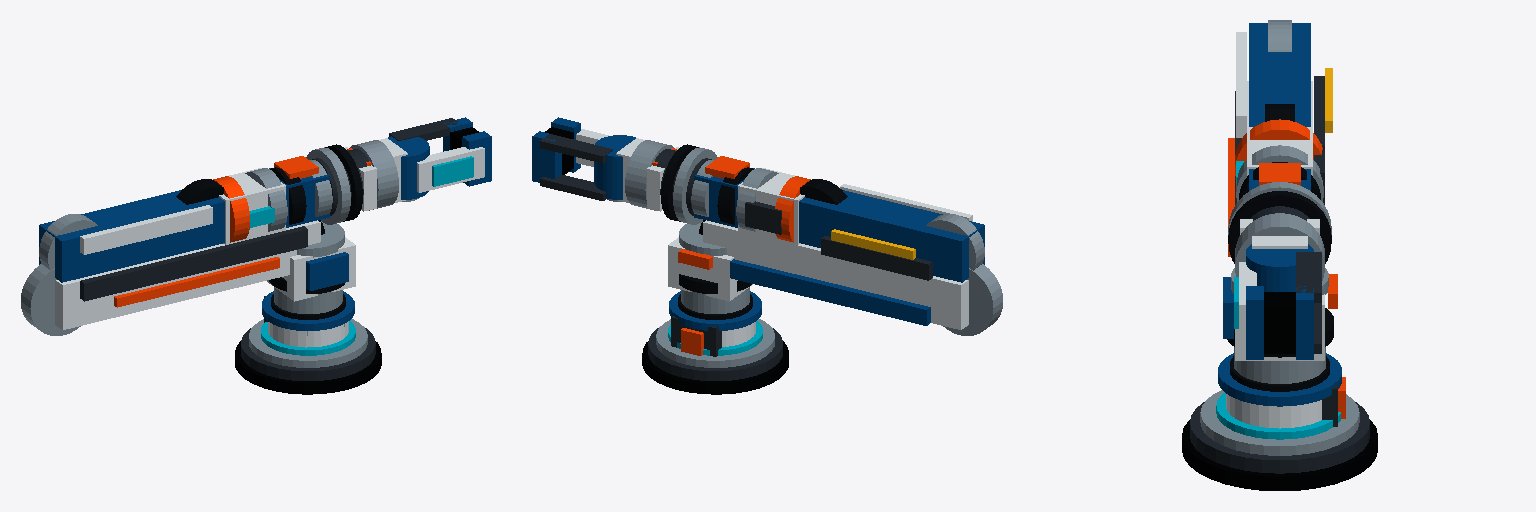
URDF robot description (marm_z1_style):
<?xml version="1.0" ?>
<!-- =================================================================================== -->
<!-- |    This document was autogenerated by xacro from src/marm_description/urdf/marm_z1_style.xacro | -->
<!-- |    EDITING THIS FILE BY HAND IS NOT RECOMMENDED                                 | -->
<!-- =================================================================================== -->
<robot name="marm_z1_style">
  <!-- Z1-inspired visual language, using the current project's palette and primitives. -->
  <material name="Graphite">
    <color rgba="0.055 0.070 0.085 1"/>
  </material>
  <material name="Gunmetal">
    <color rgba="0.16 0.19 0.22 1"/>
  </material>
  <material name="PearlWhite">
    <color rgba="0.88 0.91 0.93 1"/>
  </material>
  <material name="Aluminium">
    <color rgba="0.52 0.58 0.62 1"/>
  </material>
  <material name="OceanBlue">
    <color rgba="0.02 0.30 0.52 1"/>
  </material>
  <material name="ElectricCyan">
    <color rgba="0.00 0.72 0.82 1"/>
  </material>
  <material name="SafetyOrange">
    <color rgba="1.00 0.30 0.035 1"/>
  </material>
  <material name="SignalYellow">
    <color rgba="1.00 0.73 0.06 1"/>
  </material>
  <material name="RubberBlack">
    <color rgba="0.018 0.022 0.026 1"/>
  </material>
  <!-- Base and shoulder motor module -->
  <link name="marm_z1_base_link">
    <visual>
      <origin rpy="0 0 0" xyz="0 0 -0.006"/>
      <geometry>
        <cylinder length="0.012" radius="0.074"/>
      </geometry>
      <material name="RubberBlack"/>
    </visual>
    <visual>
      <origin rpy="0 0 0" xyz="0 0 0.004"/>
      <geometry>
        <cylinder length="0.014" radius="0.068"/>
      </geometry>
      <material name="Gunmetal"/>
    </visual>
    <visual>
      <origin rpy="0 0 0" xyz="0 0 0.015"/>
      <geometry>
        <cylinder length="0.008" radius="0.06"/>
      </geometry>
      <material name="Aluminium"/>
    </visual>
    <visual>
      <origin rpy="0 0 0" xyz="0 0 0.022"/>
      <geometry>
        <cylinder length="0.006" radius="0.048"/>
      </geometry>
      <material name="ElectricCyan"/>
    </visual>
  </link>
  <joint name="marm_z1_base_joint" type="fixed">
    <origin rpy="0 0 0" xyz="0 0 0.025"/>
    <parent link="marm_z1_base_link"/>
    <child link="marm_z1_link00"/>
  </joint>
  <link name="marm_z1_link00">
    <visual>
      <origin rpy="0 0 0" xyz="0 0 0"/>
      <geometry>
        <cylinder length="0.046" radius="0.041"/>
      </geometry>
      <material name="PearlWhite"/>
    </visual>
    <visual>
      <origin rpy="0 0 0" xyz="0 0 -0.025"/>
      <geometry>
        <cylinder length="0.008" radius="0.047"/>
      </geometry>
      <material name="Graphite"/>
    </visual>
    <visual>
      <origin rpy="0 0 0" xyz="0 0 0.025"/>
      <geometry>
        <cylinder length="0.008" radius="0.047"/>
      </geometry>
      <material name="OceanBlue"/>
    </visual>
    <visual>
      <origin rpy="0 0 0" xyz="0 0.030 0"/>
      <geometry>
        <box size="0.052 0.028 0.052"/>
      </geometry>
      <material name="Gunmetal"/>
    </visual>
    <visual>
      <origin rpy="0 0 0" xyz="0 0.046 0"/>
      <geometry>
        <box size="0.024 0.008 0.036"/>
      </geometry>
      <material name="SafetyOrange"/>
    </visual>
    <visual>
      <origin rpy="0 0 0" xyz="0 -0.031 0.018"/>
      <geometry>
        <box size="0.044 0.008 0.010"/>
      </geometry>
      <material name="Aluminium"/>
    </visual>
    <collision>
      <origin rpy="0 0 0" xyz="0 0 0"/>
      <geometry>
        <cylinder length="0.050" radius="0.033"/>
      </geometry>
    </collision>
    <inertial>
      <mass value="0.48"/>
      <inertia ixx="0.00023068000000000003" ixy="0" ixz="0" iyy="0.00023068000000000003" iyz="0" izz="0.00026136000000000003"/>
    </inertial>
  </link>
  <joint name="marm_z1_joint1" type="revolute">
    <origin rpy="0 0 0" xyz="0 0 0.055"/>
    <parent link="marm_z1_link00"/>
    <child link="marm_z1_link01"/>
    <axis xyz="0 0 1"/>
    <limit effort="30" lower="-2.61799" upper="2.61799" velocity="3.14"/>
  </joint>
  <!-- Shoulder housing -->
  <link name="marm_z1_link01">
    <visual>
      <origin rpy="0 0 0" xyz="0 0 -0.012"/>
      <geometry>
        <cylinder length="0.034" radius="0.035"/>
      </geometry>
      <material name="Aluminium"/>
    </visual>
    <visual>
      <origin rpy="0 0 0" xyz="0 0 -0.024"/>
      <geometry>
        <cylinder length="0.006" radius="0.038"/>
      </geometry>
      <material name="Graphite"/>
    </visual>
    <visual>
      <origin rpy="0 0 0" xyz="0 0 0.022"/>
      <geometry>
        <box size="0.072 0.068 0.046"/>
      </geometry>
      <material name="PearlWhite"/>
    </visual>
    <visual>
      <origin rpy="0 0 0" xyz="0 0 0.010"/>
      <geometry>
        <cylinder length="0.012" radius="0.041"/>
      </geometry>
      <material name="Graphite"/>
    </visual>
    <visual>
      <origin rpy="0 0 0" xyz="0 0 0.048"/>
      <geometry>
        <cylinder length="0.01" radius="0.037"/>
      </geometry>
      <material name="Aluminium"/>
    </visual>
    <visual>
      <origin rpy="0 0 0" xyz="0 -0.039 0.026"/>
      <geometry>
        <box size="0.046 0.008 0.030"/>
      </geometry>
      <material name="OceanBlue"/>
    </visual>
    <visual>
      <origin rpy="0 0 0" xyz="0 0.040 0.040"/>
      <geometry>
        <box size="0.036 0.008 0.012"/>
      </geometry>
      <material name="SafetyOrange"/>
    </visual>
    <collision>
      <origin rpy="0 0 0" xyz="0 0 0.022"/>
      <geometry>
        <box size="0.060 0.060 0.045"/>
      </geometry>
    </collision>
    <inertial>
      <mass value="0.62"/>
      <inertia ixx="0.000290625" ixy="0" ixz="0" iyy="0.000290625" iyz="0" izz="0.000372"/>
    </inertial>
  </link>
  <joint name="marm_z1_joint2" type="revolute">
    <origin rpy="0 0 0" xyz="0 0 0.050"/>
    <parent link="marm_z1_link01"/>
    <child link="marm_z1_link02"/>
    <axis xyz="0 1 0"/>
    <limit effort="60" lower="0" upper="2.96706" velocity="3.14"/>
  </joint>
  <!-- Long offset upper arm, with exposed side rails like the Z1 silhouette -->
  <link name="marm_z1_link02">
    <visual>
      <origin rpy="0 0 0" xyz="-0.15 0 0"/>
      <geometry>
        <box size="0.3 0.050 0.050"/>
      </geometry>
      <material name="PearlWhite"/>
    </visual>
    <visual>
      <origin rpy="0 0 0" xyz="-0.15 -0.030 0.016"/>
      <geometry>
        <box size="0.260 0.008 0.020"/>
      </geometry>
      <material name="Gunmetal"/>
    </visual>
    <visual>
      <origin rpy="0 0 0" xyz="-0.15 0.030 -0.016"/>
      <geometry>
        <box size="0.230 0.008 0.018"/>
      </geometry>
      <material name="OceanBlue"/>
    </visual>
    <visual>
      <origin rpy="0 0 0" xyz="-0.15 -0.036 -0.002"/>
      <geometry>
        <box size="0.190 0.006 0.010"/>
      </geometry>
      <material name="SafetyOrange"/>
    </visual>
    <visual>
      <origin rpy="1.5707963267948966 0 0" xyz="-0.025 0 0"/>
      <geometry>
        <cylinder length="0.02" radius="0.039"/>
      </geometry>
      <material name="Graphite"/>
    </visual>
    <visual>
      <origin rpy="1.5707963267948966 0 0" xyz="-0.29 0 0"/>
      <geometry>
        <cylinder length="0.02" radius="0.039"/>
      </geometry>
      <material name="Aluminium"/>
    </visual>
    <collision>
      <origin rpy="0 1.5707963267948966 0" xyz="-0.15 0 0"/>
      <geometry>
        <cylinder length="0.3" radius="0.023"/>
      </geometry>
    </collision>
    <inertial>
      <mass value="1.18"/>
      <inertia ixx="0.009006055" ixy="0" ixz="0" iyy="0.009006055" iyz="0" izz="0.00031211"/>
    </inertial>
  </link>
  <joint name="marm_z1_joint3" type="revolute">
    <origin rpy="0 0 0" xyz="-0.3 0 0"/>
    <parent link="marm_z1_link02"/>
    <child link="marm_z1_link03"/>
    <axis xyz="0 1 0"/>
    <limit effort="30" lower="-2.87979" upper="0" velocity="3.14"/>
  </joint>
  <!-- Return arm and elbow motor shell -->
  <link name="marm_z1_link03">
    <visual>
      <origin rpy="0 0 0" xyz="0.095 0 0.050"/>
      <geometry>
        <box size="0.19 0.046 0.046"/>
      </geometry>
      <material name="OceanBlue"/>
    </visual>
    <visual>
      <origin rpy="0 0 0" xyz="0.095 -0.029 0.066"/>
      <geometry>
        <box size="0.150 0.008 0.018"/>
      </geometry>
      <material name="PearlWhite"/>
    </visual>
    <visual>
      <origin rpy="0 0 0" xyz="0.095 0.030 0.035"/>
      <geometry>
        <box size="0.125 0.008 0.018"/>
      </geometry>
      <material name="Gunmetal"/>
    </visual>
    <visual>
      <origin rpy="0 0 0" xyz="0.095 0.037 0.053"/>
      <geometry>
        <box size="0.095 0.006 0.010"/>
      </geometry>
      <material name="SignalYellow"/>
    </visual>
    <visual>
      <origin rpy="1.5707963267948966 0 0" xyz="0.026 0 0.050"/>
      <geometry>
        <cylinder length="0.018" radius="0.034"/>
      </geometry>
      <material name="Aluminium"/>
    </visual>
    <visual>
      <origin rpy="1.5707963267948966 0 0" xyz="0.18 0 0.050"/>
      <geometry>
        <cylinder length="0.022" radius="0.036"/>
      </geometry>
      <material name="Graphite"/>
    </visual>
    <collision>
      <origin rpy="0 1.5707963267948966 0" xyz="0.095 0 0.050"/>
      <geometry>
        <cylinder length="0.19" radius="0.020"/>
      </geometry>
    </collision>
    <inertial>
      <mass value="0.82"/>
      <inertia ixx="0.002548833333333333" ixy="0" ixz="0" iyy="0.002548833333333333" iyz="0" izz="0.00016399999999999997"/>
    </inertial>
  </link>
  <joint name="marm_z1_joint4" type="revolute">
    <origin rpy="0 0 0" xyz="0.19 0 0.050"/>
    <parent link="marm_z1_link03"/>
    <child link="marm_z1_link04"/>
    <axis xyz="0 1 0"/>
    <limit effort="30" lower="-1.51844" upper="1.51844" velocity="3.14"/>
  </joint>
  <!-- Three compact wrist modules -->
  <link name="marm_z1_link04">
    <visual>
      <origin rpy="0 0 0" xyz="0.035 0 0"/>
      <geometry>
        <box size="0.07 0.050 0.050"/>
      </geometry>
      <material name="PearlWhite"/>
    </visual>
    <visual>
      <origin rpy="0 1.5707963267948966 0" xyz="0.014 0 0"/>
      <geometry>
        <cylinder length="0.018" radius="0.034"/>
      </geometry>
      <material name="SafetyOrange"/>
    </visual>
    <visual>
      <origin rpy="0 1.5707963267948966 0" xyz="0.058 0 0"/>
      <geometry>
        <cylinder length="0.018" radius="0.033"/>
      </geometry>
      <material name="Aluminium"/>
    </visual>
    <visual>
      <origin rpy="0 0 0" xyz="0.035 0.030 0"/>
      <geometry>
        <box size="0.042 0.008 0.026"/>
      </geometry>
      <material name="Gunmetal"/>
    </visual>
    <visual>
      <origin rpy="0 0 0" xyz="0.035 -0.030 0"/>
      <geometry>
        <box size="0.034 0.006 0.016"/>
      </geometry>
      <material name="ElectricCyan"/>
    </visual>
    <collision>
      <origin rpy="0 1.5707963267948966 0" xyz="0.035 0 0"/>
      <geometry>
        <cylinder length="0.07" radius="0.026"/>
      </geometry>
    </collision>
    <inertial>
      <mass value="0.55"/>
      <inertia ixx="0.00031753333333333337" ixy="0" ixz="0" iyy="0.00031753333333333337" iyz="0" izz="0.0001859"/>
    </inertial>
  </link>
  <joint name="marm_z1_joint5" type="revolute">
    <origin rpy="0 0 0" xyz="0.07 0 0"/>
    <parent link="marm_z1_link04"/>
    <child link="marm_z1_link05"/>
    <axis xyz="0 0 1"/>
    <limit effort="30" lower="-1.34390" upper="1.34390" velocity="3.14"/>
  </joint>
  <link name="marm_z1_link05">
    <visual>
      <origin rpy="0 0 0" xyz="0.026 0 0"/>
      <geometry>
        <box size="0.052 0.046 0.046"/>
      </geometry>
      <material name="OceanBlue"/>
    </visual>
    <visual>
      <origin rpy="0 1.5707963267948966 0" xyz="0.012 0 0"/>
      <geometry>
        <cylinder length="0.016" radius="0.031"/>
      </geometry>
      <material name="Graphite"/>
    </visual>
    <visual>
      <origin rpy="0 1.5707963267948966 0" xyz="0.043 0 0"/>
      <geometry>
        <cylinder length="0.016" radius="0.03"/>
      </geometry>
      <material name="Aluminium"/>
    </visual>
    <visual>
      <origin rpy="0 0 0" xyz="0.026 0 0.028"/>
      <geometry>
        <box size="0.034 0.032 0.008"/>
      </geometry>
      <material name="SafetyOrange"/>
    </visual>
    <collision>
      <origin rpy="0 1.5707963267948966 0" xyz="0.026 0 0"/>
      <geometry>
        <cylinder length="0.052" radius="0.024"/>
      </geometry>
    </collision>
    <inertial>
      <mass value="0.4"/>
      <inertia ixx="0.00014773333333333334" ixy="0" ixz="0" iyy="0.00014773333333333334" iyz="0" izz="0.00011520000000000001"/>
    </inertial>
  </link>
  <joint name="marm_z1_joint6" type="revolute">
    <origin rpy="0 0 0" xyz="0.052 0 0"/>
    <parent link="marm_z1_link05"/>
    <child link="marm_z1_link06"/>
    <axis xyz="1 0 0"/>
    <limit effort="30" lower="-2.79253" upper="2.79253" velocity="3.14"/>
  </joint>
  <link name="marm_z1_link06">
    <visual>
      <origin rpy="0 1.5707963267948966 0" xyz="0.025 0 0"/>
      <geometry>
        <cylinder length="0.05" radius="0.03"/>
      </geometry>
      <material name="Gunmetal"/>
    </visual>
    <visual>
      <origin rpy="0 1.5707963267948966 0" xyz="0.010 0 0"/>
      <geometry>
        <cylinder length="0.01" radius="0.039"/>
      </geometry>
      <material name="Aluminium"/>
    </visual>
    <visual>
      <origin rpy="0 1.5707963267948966 0" xyz="0.025 0 0"/>
      <geometry>
        <cylinder length="0.008" radius="0.039"/>
      </geometry>
      <material name="Graphite"/>
    </visual>
    <visual>
      <origin rpy="0 0 0" xyz="0.043 0 0"/>
      <geometry>
        <box size="0.016 0.060 0.044"/>
      </geometry>
      <material name="PearlWhite"/>
    </visual>
    <visual>
      <origin rpy="0 0 0" xyz="0.050 0 0.022"/>
      <geometry>
        <box size="0.010 0.040 0.006"/>
      </geometry>
      <material name="SafetyOrange"/>
    </visual>
    <collision>
      <origin rpy="0 1.5707963267948966 0" xyz="0.025 0 0"/>
      <geometry>
        <cylinder length="0.05" radius="0.026"/>
      </geometry>
    </collision>
    <inertial>
      <mass value="0.3"/>
      <inertia ixx="0.00011320000000000003" ixy="0" ixz="0" iyy="0.00011320000000000003" iyz="0" izz="0.00010139999999999998"/>
    </inertial>
  </link>
  <!-- Z1-like asymmetric gripper: fixed stator plus one revolute mover. -->
  <joint name="marm_z1_gripper_stator_joint" type="fixed">
    <!-- Roll the complete gripper: local X-Z opening becomes tool X-Y opening. -->
    <origin rpy="1.5707963267948966 0 0" xyz="0.05 0 0"/>
    <parent link="marm_z1_link06"/>
    <child link="marm_z1_gripper_stator"/>
  </joint>
  <link name="marm_z1_gripper_stator">
    <visual>
      <origin rpy="0 1.5707963267948966 0" xyz="0.012 0 0"/>
      <geometry>
        <cylinder length="0.024" radius="0.034"/>
      </geometry>
      <material name="Aluminium"/>
    </visual>
    <visual>
      <origin rpy="0 0 0" xyz="0.027 0 0"/>
      <geometry>
        <box size="0.030 0.052 0.042"/>
      </geometry>
      <material name="PearlWhite"/>
    </visual>
    <visual>
      <origin rpy="1.5707963267948966 0 0" xyz="0.049 0 0"/>
      <geometry>
        <cylinder length="0.048" radius="0.026"/>
      </geometry>
      <material name="OceanBlue"/>
    </visual>
    <visual>
      <origin rpy="1.5707963267948966 0 0" xyz="0.049 -0.027 0"/>
      <geometry>
        <cylinder length="0.006" radius="0.018"/>
      </geometry>
      <material name="Aluminium"/>
    </visual>
    <visual>
      <origin rpy="0 0 0" xyz="0.087 -0.021 -0.022"/>
      <geometry>
        <box size="0.074 0.008 0.020"/>
      </geometry>
      <material name="Gunmetal"/>
    </visual>
    <visual>
      <origin rpy="0 0 0" xyz="0.087 0.021 -0.022"/>
      <geometry>
        <box size="0.074 0.008 0.020"/>
      </geometry>
      <material name="Gunmetal"/>
    </visual>
    <visual>
      <origin rpy="0 0 0" xyz="0.123 0 -0.019"/>
      <geometry>
        <box size="0.026 0.050 0.014"/>
      </geometry>
      <material name="OceanBlue"/>
    </visual>
    <visual>
      <origin rpy="0 0 0" xyz="0.123 0 -0.006"/>
      <geometry>
        <box size="0.026 0.040 0.012"/>
      </geometry>
      <material name="RubberBlack"/>
    </visual>
    <visual>
      <origin rpy="0 0 0" xyz="0.086 -0.026 -0.022"/>
      <geometry>
        <box size="0.040 0.003 0.006"/>
      </geometry>
      <material name="SafetyOrange"/>
    </visual>
    <collision>
      <origin xyz="0.027 0 0"/>
      <geometry>
        <box size="0.030 0.052 0.042"/>
      </geometry>
    </collision>
    <collision>
      <origin xyz="0.087 -0.021 -0.022"/>
      <geometry>
        <box size="0.074 0.008 0.020"/>
      </geometry>
    </collision>
    <collision>
      <origin xyz="0.087 0.021 -0.022"/>
      <geometry>
        <box size="0.074 0.008 0.020"/>
      </geometry>
    </collision>
    <collision>
      <origin xyz="0.123 0 -0.013"/>
      <geometry>
        <box size="0.026 0.050 0.026"/>
      </geometry>
    </collision>
    <inertial>
      <mass value="0.52"/>
      <inertia ixx="0.00017766666666666668" ixy="0" ixz="0" iyy="0.00045933333333333335" iyz="0" izz="0.0004203333333333334"/>
    </inertial>
  </link>
  <joint name="marm_z1_gripper_joint" type="revolute">
    <origin rpy="0 0 0" xyz="0.049 0 0"/>
    <parent link="marm_z1_gripper_stator"/>
    <child link="marm_z1_gripper_mover"/>
    <axis xyz="0 1 0"/>
    <limit effort="30" lower="-1.5707963267948966" upper="0" velocity="3.14"/>
  </joint>
  <link name="marm_z1_gripper_mover">
    <visual>
      <origin rpy="1.5707963267948966 0 0" xyz="0 0 0"/>
      <geometry>
        <cylinder length="0.044" radius="0.012"/>
      </geometry>
      <material name="Graphite"/>
    </visual>
    <visual>
      <origin rpy="0 0 0" xyz="0.038 0 0.024"/>
      <geometry>
        <box size="0.076 0.032 0.014"/>
      </geometry>
      <material name="PearlWhite"/>
    </visual>
    <visual>
      <origin rpy="0 0 0" xyz="0.074 0 0.019"/>
      <geometry>
        <box size="0.026 0.050 0.014"/>
      </geometry>
      <material name="OceanBlue"/>
    </visual>
    <visual>
      <origin rpy="0 0 0" xyz="0.074 0 0.006"/>
      <geometry>
        <box size="0.026 0.040 0.012"/>
      </geometry>
      <material name="RubberBlack"/>
    </visual>
    <visual>
      <origin rpy="0 0 0" xyz="0.038 0 0.033"/>
      <geometry>
        <box size="0.046 0.022 0.004"/>
      </geometry>
      <material name="ElectricCyan"/>
    </visual>
    <collision>
      <origin xyz="0.038 0 0.024"/>
      <geometry>
        <box size="0.076 0.032 0.014"/>
      </geometry>
    </collision>
    <collision>
      <origin xyz="0.074 0 0.013"/>
      <geometry>
        <box size="0.026 0.050 0.026"/>
      </geometry>
    </collision>
    <inertial>
      <mass value="0.28"/>
      <inertia ixx="8.138666666666666e-05" ixy="0" ixz="0" iyy="0.0002605866666666667" iyz="0" izz="0.00021578666666666668"/>
    </inertial>
  </link>
  <link name="marm_z1_grasping_frame"/>
  <joint name="marm_z1_grasping_frame_joint" type="fixed">
    <origin rpy="0 0 0" xyz="0.120 0 0"/>
    <parent link="marm_z1_gripper_stator"/>
    <child link="marm_z1_grasping_frame"/>
  </joint>
</robot>

--- Render facts (derived) ---
3 views of the same robot in one strip: view 1: azimuth 30°, elevation 25°; view 2: azimuth 150°, elevation 25°; view 3: azimuth 270°, elevation 25° (orthographic).
Robot: marm_z1_style — 11 links, 10 joints (7 revolute, 3 fixed); root link marm_z1_base_link; default pose: all joints at 0.
Visible links, largest first — view 1: marm_z1_link02, marm_z1_link03, marm_z1_base_link, marm_z1_link01, marm_z1_gripper_stator, marm_z1_link04, marm_z1_link06, marm_z1_gripper_mover, marm_z1_link05, marm_z1_link00; view 2: marm_z1_link02, marm_z1_link03, marm_z1_base_link, marm_z1_gripper_stator, marm_z1_link01, marm_z1_link04, marm_z1_link06, marm_z1_link00, marm_z1_link05, marm_z1_gripper_mover; view 3: marm_z1_base_link, marm_z1_link03, marm_z1_gripper_stator, marm_z1_link00, marm_z1_link01, marm_z1_link04, marm_z1_link06, marm_z1_gripper_mover, marm_z1_link05, marm_z1_link02.
Boxes of the visible links, <box> form: marm_z1_link02: <box>21,220,324,335</box>; marm_z1_link03: <box>39,179,224,282</box>; marm_z1_base_link: <box>235,319,381,394</box>; marm_z1_link01: <box>267,221,355,319</box>; marm_z1_gripper_stator: <box>349,117,477,210</box>; marm_z1_link04: <box>213,168,287,244</box>; marm_z1_link06: <box>306,144,376,224</box>; marm_z1_gripper_mover: <box>417,131,491,192</box>; marm_z1_link05: <box>269,156,332,227</box>; marm_z1_link00: <box>262,291,354,347</box>; marm_z1_link02: <box>699,220,1002,335</box>; marm_z1_link03: <box>799,179,984,282</box>; marm_z1_base_link: <box>642,319,788,394</box>; marm_z1_gripper_stator: <box>532,131,674,210</box>; marm_z1_link01: <box>668,221,752,319</box>; marm_z1_link04: <box>736,168,810,244</box>; marm_z1_link06: <box>647,144,717,224</box>; marm_z1_link00: <box>669,291,761,356</box>; marm_z1_link05: <box>691,156,754,227</box>; marm_z1_gripper_mover: <box>546,117,608,172</box>; marm_z1_base_link: <box>1182,390,1377,490</box>; marm_z1_link03: <box>1236,20,1332,149</box>; marm_z1_gripper_stator: <box>1235,213,1324,359</box>; marm_z1_link00: <box>1218,353,1345,428</box>; marm_z1_link01: <box>1223,268,1337,391</box>; marm_z1_link04: <box>1235,119,1324,204</box>; marm_z1_link06: <box>1228,182,1331,263</box>; marm_z1_gripper_mover: <box>1234,262,1279,359</box>; marm_z1_link05: <box>1239,162,1320,199</box>; marm_z1_link02: <box>1228,81,1312,256</box>.
Size in the robot's own frame: 0.527 by 0.148 by 0.231 metres.
Geometry: primitives only (box / cylinder / sphere), no mesh files.
